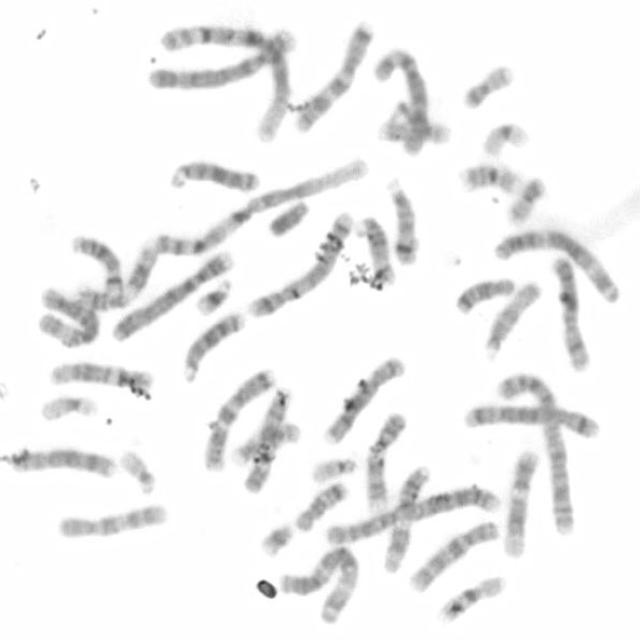A1: (148, 154, 368, 260), (152, 18, 293, 146)
A2: (493, 365, 579, 539), (323, 481, 503, 547)
A3: (490, 223, 623, 306), (274, 540, 363, 628)
B4: (107, 244, 236, 346), (244, 206, 355, 320), (143, 24, 297, 95)
B5: (244, 206, 355, 320), (459, 397, 603, 442)
C10: (402, 516, 502, 596), (54, 498, 169, 542)
C11: (71, 236, 161, 314), (378, 458, 433, 575)
C12: (498, 444, 540, 560), (44, 357, 156, 393)
C6: (369, 43, 431, 157), (32, 281, 102, 349)
C7: (289, 17, 376, 135), (198, 362, 278, 475)
C8: (319, 352, 407, 446), (5, 442, 119, 481)
C9: (238, 382, 294, 496), (362, 406, 408, 512)
D13: (178, 304, 247, 384), (163, 154, 261, 194)
D14: (67, 224, 123, 294), (353, 211, 396, 286)
D15: (479, 278, 543, 360), (383, 180, 423, 270)
E16: (436, 571, 507, 624), (454, 159, 526, 197)
E17: (227, 418, 302, 469), (374, 114, 454, 146)
E18: (290, 478, 349, 534), (451, 271, 517, 316)
F19: (478, 118, 531, 159), (36, 391, 98, 424)
F20: (458, 61, 514, 111), (503, 172, 547, 226)
G21: (189, 272, 234, 318), (254, 517, 296, 560)
G22: (116, 444, 158, 496), (308, 452, 358, 484)
X: (547, 252, 593, 372)
Y: (263, 196, 312, 238)
